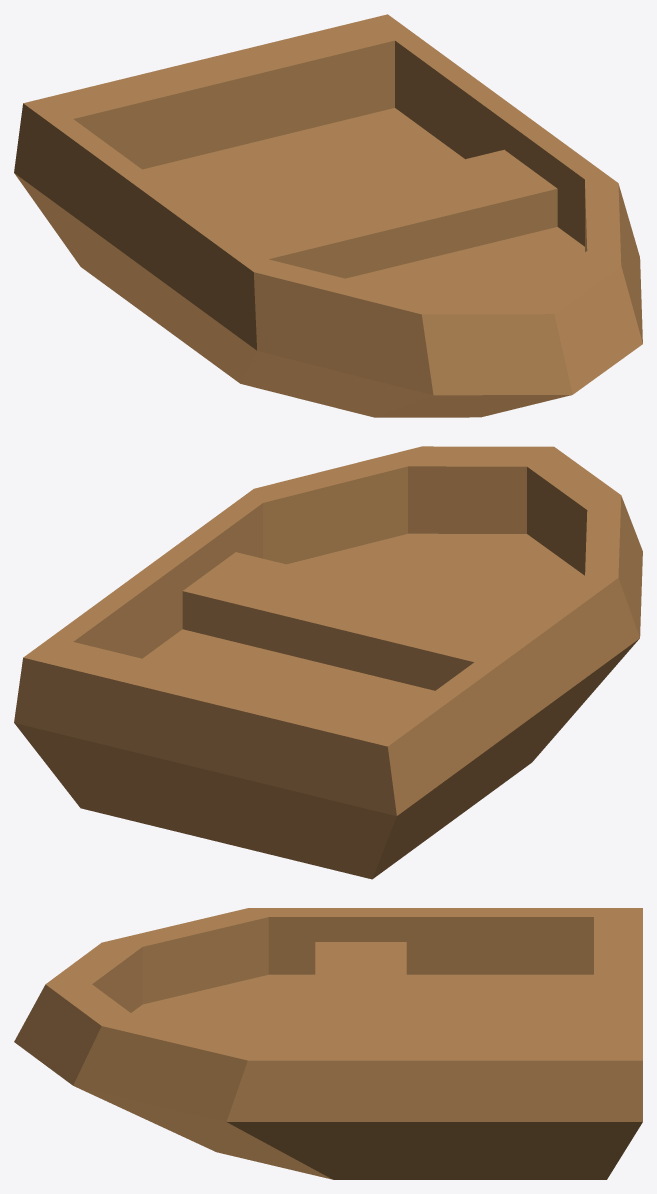
The model's file is watercraftpack_028.glb.
3 views of the same model, one above another, from view 1: azimuth 30°, elevation 25°; view 2: azimuth 150°, elevation 25°; view 3: azimuth 270°, elevation 25° (orthographic). The views are drawn at different scales.
Parts seen in each view (by area): view 1: Mesh1 Group1 Model; view 2: Mesh1 Group1 Model; view 3: Mesh1 Group1 Model.
Boxes of the visible parts, left/top/right/bottom form: Mesh1 Group1 Model: left=14, top=14, right=642, bottom=417; Mesh1 Group1 Model: left=14, top=446, right=642, bottom=879; Mesh1 Group1 Model: left=14, top=908, right=642, bottom=1179.
Size of the model in its own units: 1.78 by 0.7 by 2.97.
